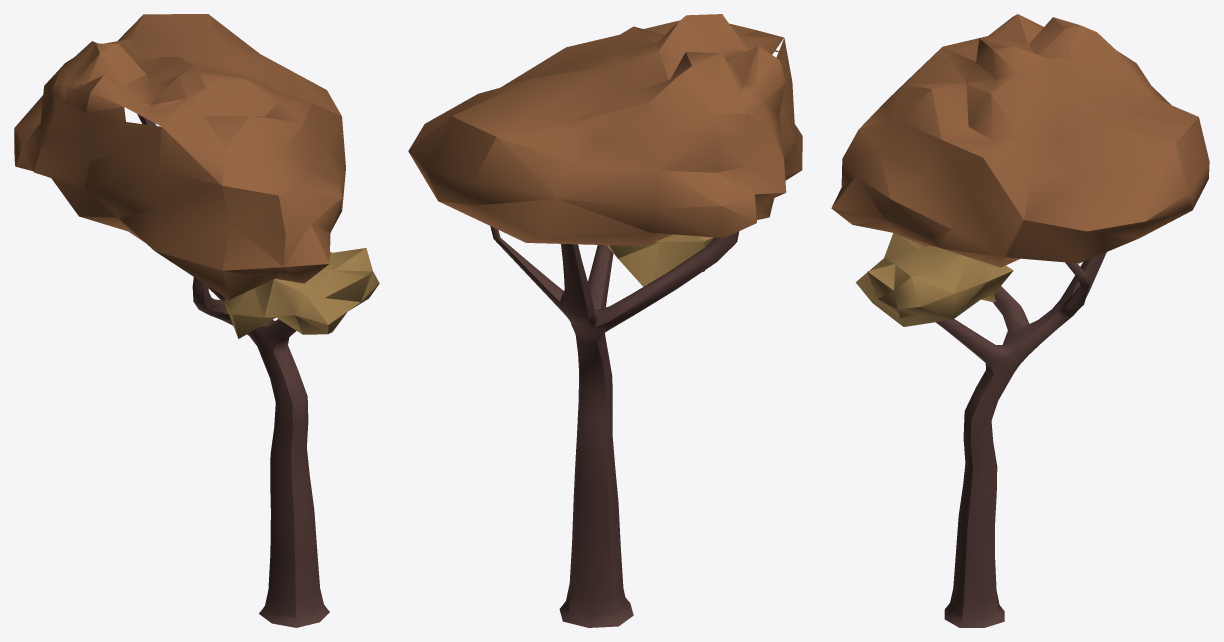
Rendered from tree_maple_3.glb.
3 views of the same model, side by side, from view 1: azimuth 30°, elevation 25°; view 2: azimuth 150°, elevation 25°; view 3: azimuth 270°, elevation 25° (orthographic). The views are drawn at different scales.
Parts seen in each view (by area): view 1: tree_maple_3; view 2: tree_maple_3; view 3: tree_maple_3.
Boxes of the visible parts, bbox=[...] form: tree_maple_3: bbox=[14, 14, 379, 627]; tree_maple_3: bbox=[408, 14, 802, 627]; tree_maple_3: bbox=[831, 14, 1209, 627].
Size of the model in its own units: 4.25 by 7.5 by 4.85.
